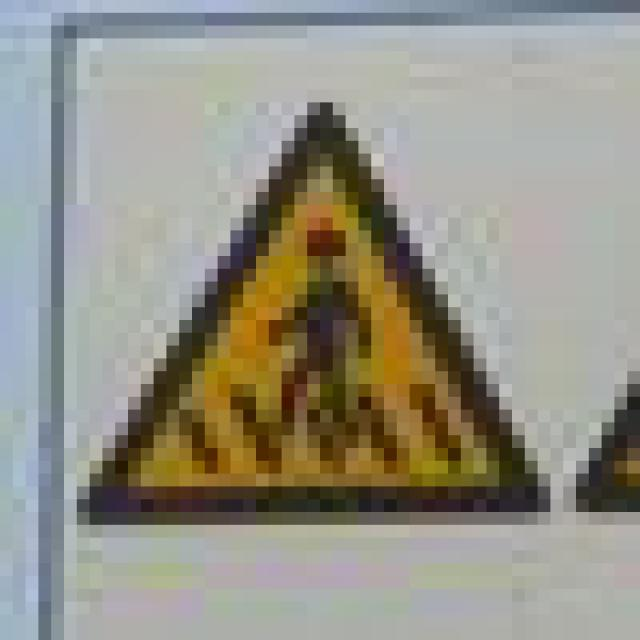pass_either_side: (64, 77, 550, 512)
